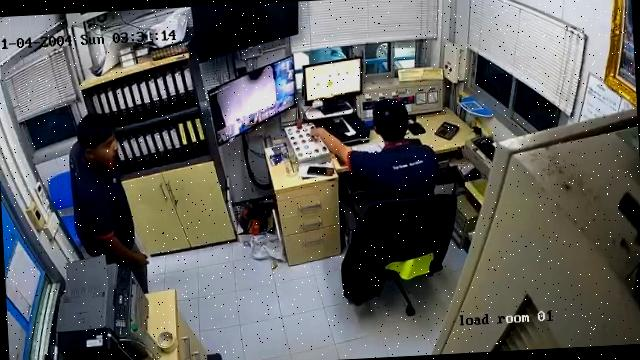Head: (77, 114, 117, 165), (374, 99, 408, 141)
People: (71, 115, 147, 293), (312, 99, 437, 201)
Phone: (308, 166, 334, 175)
